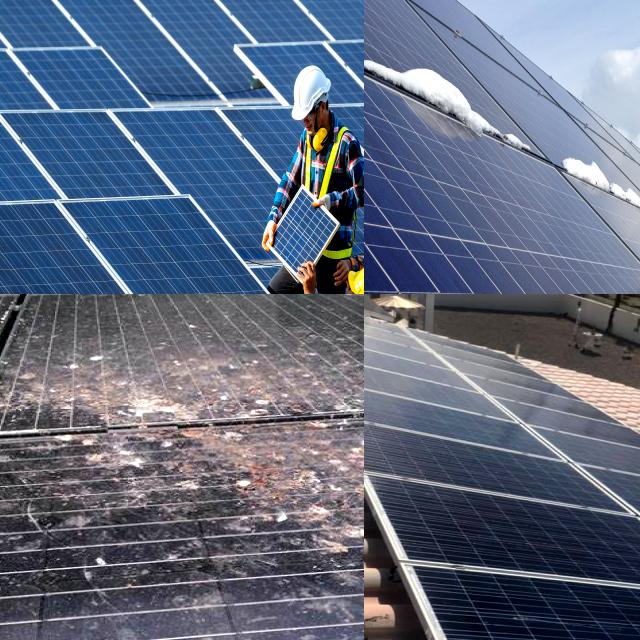bird: (128, 329, 340, 419), (150, 418, 270, 536), (17, 542, 188, 624), (0, 372, 72, 500), (0, 490, 35, 603), (327, 462, 364, 566)
crack: (123, 96, 316, 287), (52, 182, 314, 294), (0, 95, 171, 217), (0, 201, 171, 294), (0, 104, 99, 251), (16, 47, 168, 128), (0, 33, 79, 134), (0, 205, 62, 294)
panel: (411, 39, 541, 158), (567, 138, 640, 234), (364, 0, 418, 90)
